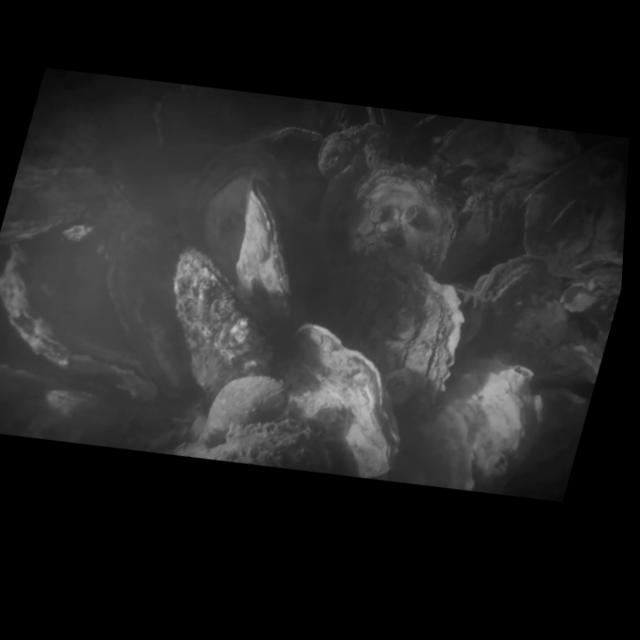Oyster-Closed: (0, 243, 161, 399), (328, 253, 466, 422), (404, 350, 552, 488), (280, 320, 405, 480), (98, 210, 194, 390), (172, 245, 278, 405), (203, 175, 302, 346), (200, 373, 288, 447)
Oyster-Indeterminate: (342, 157, 460, 277), (0, 161, 134, 244), (478, 253, 557, 319), (255, 122, 323, 148)
